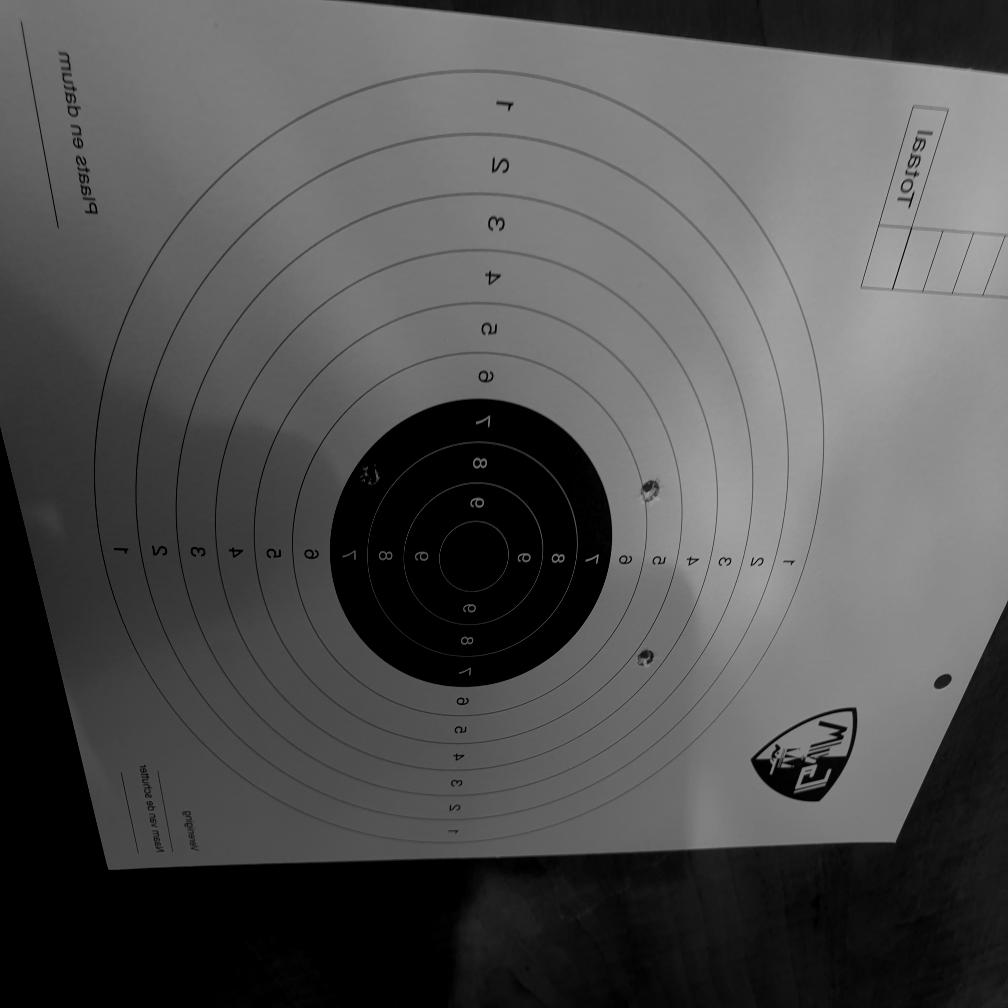4: (636, 648, 655, 669)
6: (639, 476, 664, 508)
7: (356, 457, 383, 492)
Target: (90, 67, 828, 850)
black_contour: (334, 397, 614, 691)
